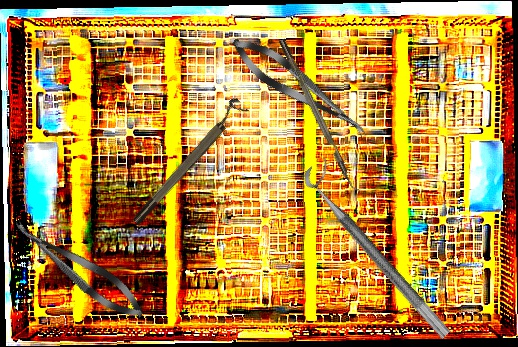Chopper: (278, 34, 365, 197)
Fixation Ring: (299, 155, 465, 341), (125, 96, 250, 227)
Micro Scissor: (224, 28, 376, 148), (6, 210, 152, 328)
